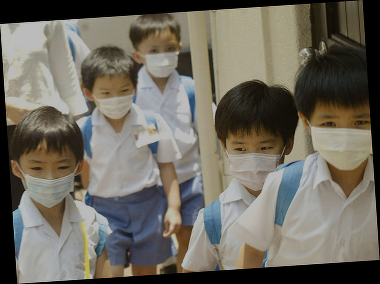with_mask: (309, 110, 372, 174), (227, 135, 285, 192), (21, 156, 76, 209), (93, 81, 136, 121), (141, 41, 180, 80)
